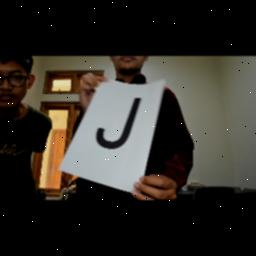j: (94, 96, 144, 150)
